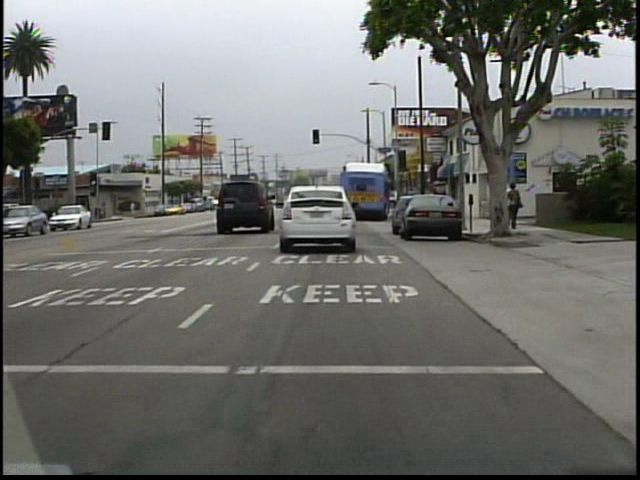person: (505, 178, 523, 231), (502, 178, 520, 229), (128, 197, 139, 219)
